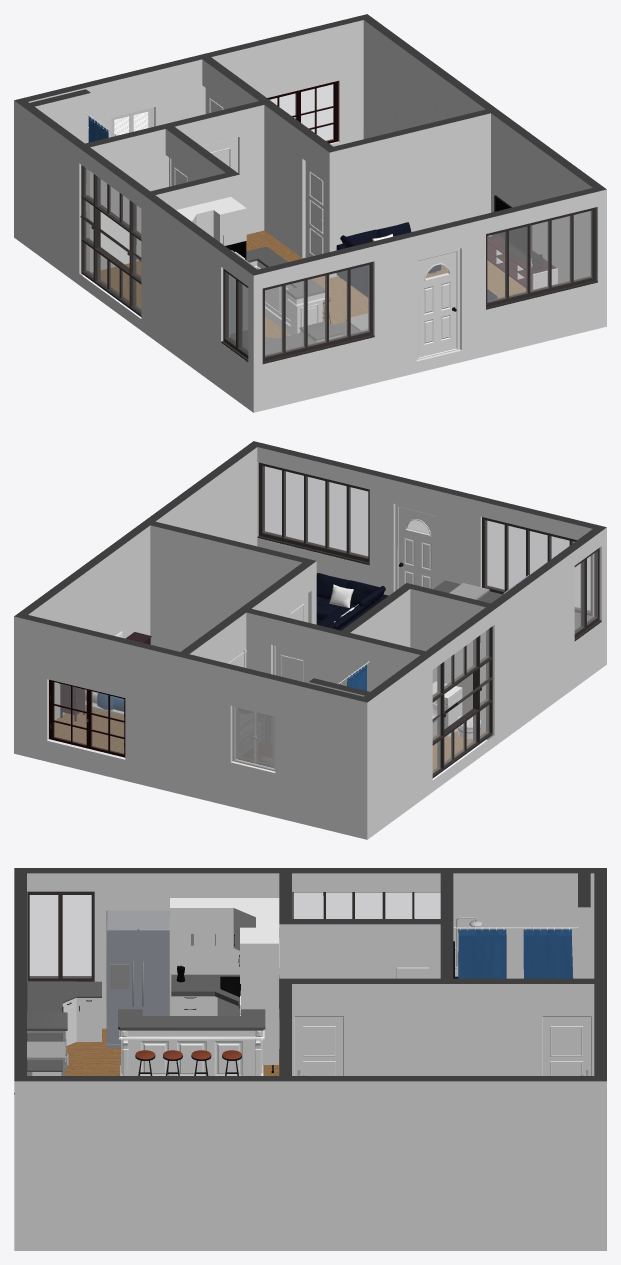
The model's file is asset.glb.
3 views of the same model, one above another, from view 1: azimuth 30°, elevation 25°; view 2: azimuth 150°, elevation 25°; view 3: azimuth 270°, elevation 25° (orthographic). The views are drawn at different scales.
Parts seen in each view (by area): view 1: Object_6, Object_8, Object_33, Object_20, Object_32, Object_7, Object_80, Object_5, Object_28, Object_29, Object_70, Object_82 (+9 smaller); view 2: Object_8, Object_6, Object_20, Object_33, Object_32, Object_28, Object_29, Object_34, Object_7, Object_80, Object_37, Object_35 (+7 smaller); view 3: Object_8, Object_6, Object_20, Object_5, Object_70, Object_82, Object_74, Object_31, Object_66, Object_29, Object_80, Object_73 (+5 smaller).
Boxes of the visible parts, <box> form: Object_6: <box>28,20,592,337</box>; Object_8: <box>14,100,606,412</box>; Object_33: <box>265,211,592,356</box>; Object_20: <box>14,14,606,275</box>; Object_32: <box>262,207,597,364</box>; Object_7: <box>416,248,460,359</box>; Object_80: <box>92,230,526,338</box>; Object_5: <box>176,197,324,335</box>; Object_28: <box>80,165,141,316</box>; Object_29: <box>84,167,141,311</box>; Object_70: <box>169,88,324,257</box>; Object_82: <box>230,247,359,354</box>; Object_8: <box>14,527,606,839</box>; Object_6: <box>28,447,593,739</box>; Object_20: <box>14,441,606,702</box>; Object_33: <box>263,466,590,610</box>; Object_32: <box>257,462,592,615</box>; Object_28: <box>432,626,493,778</box>; Object_29: <box>432,629,489,773</box>; Object_34: <box>54,682,124,754</box>; Object_7: <box>395,504,438,590</box>; Object_80: <box>54,707,484,770</box>; Object_37: <box>316,562,403,630</box>; Object_35: <box>49,679,125,757</box>; Object_8: <box>14,1081,606,1250</box>; Object_6: <box>27,873,594,1075</box>; Object_20: <box>14,868,606,1081</box>; Object_5: <box>32,898,279,1075</box>; Object_70: <box>292,956,594,1075</box>; Object_82: <box>27,974,279,1071</box>; Object_74: <box>107,929,169,1044</box>; Object_31: <box>29,895,91,977</box>; Object_66: <box>458,929,573,978</box>; Object_29: <box>293,892,440,918</box>; Object_80: <box>65,1028,279,1075</box>; Object_73: <box>106,910,169,1047</box>.
Size of the model in its own units: 8.23 by 2.95 by 9.34.
Materials: 83 (1 with a texture image).
